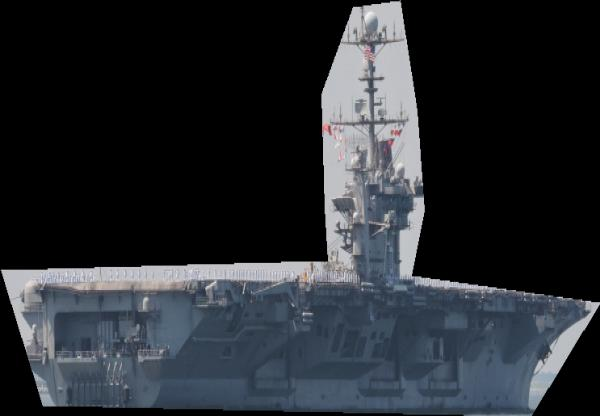Aircraft Carrier: (1, 0, 600, 416)
